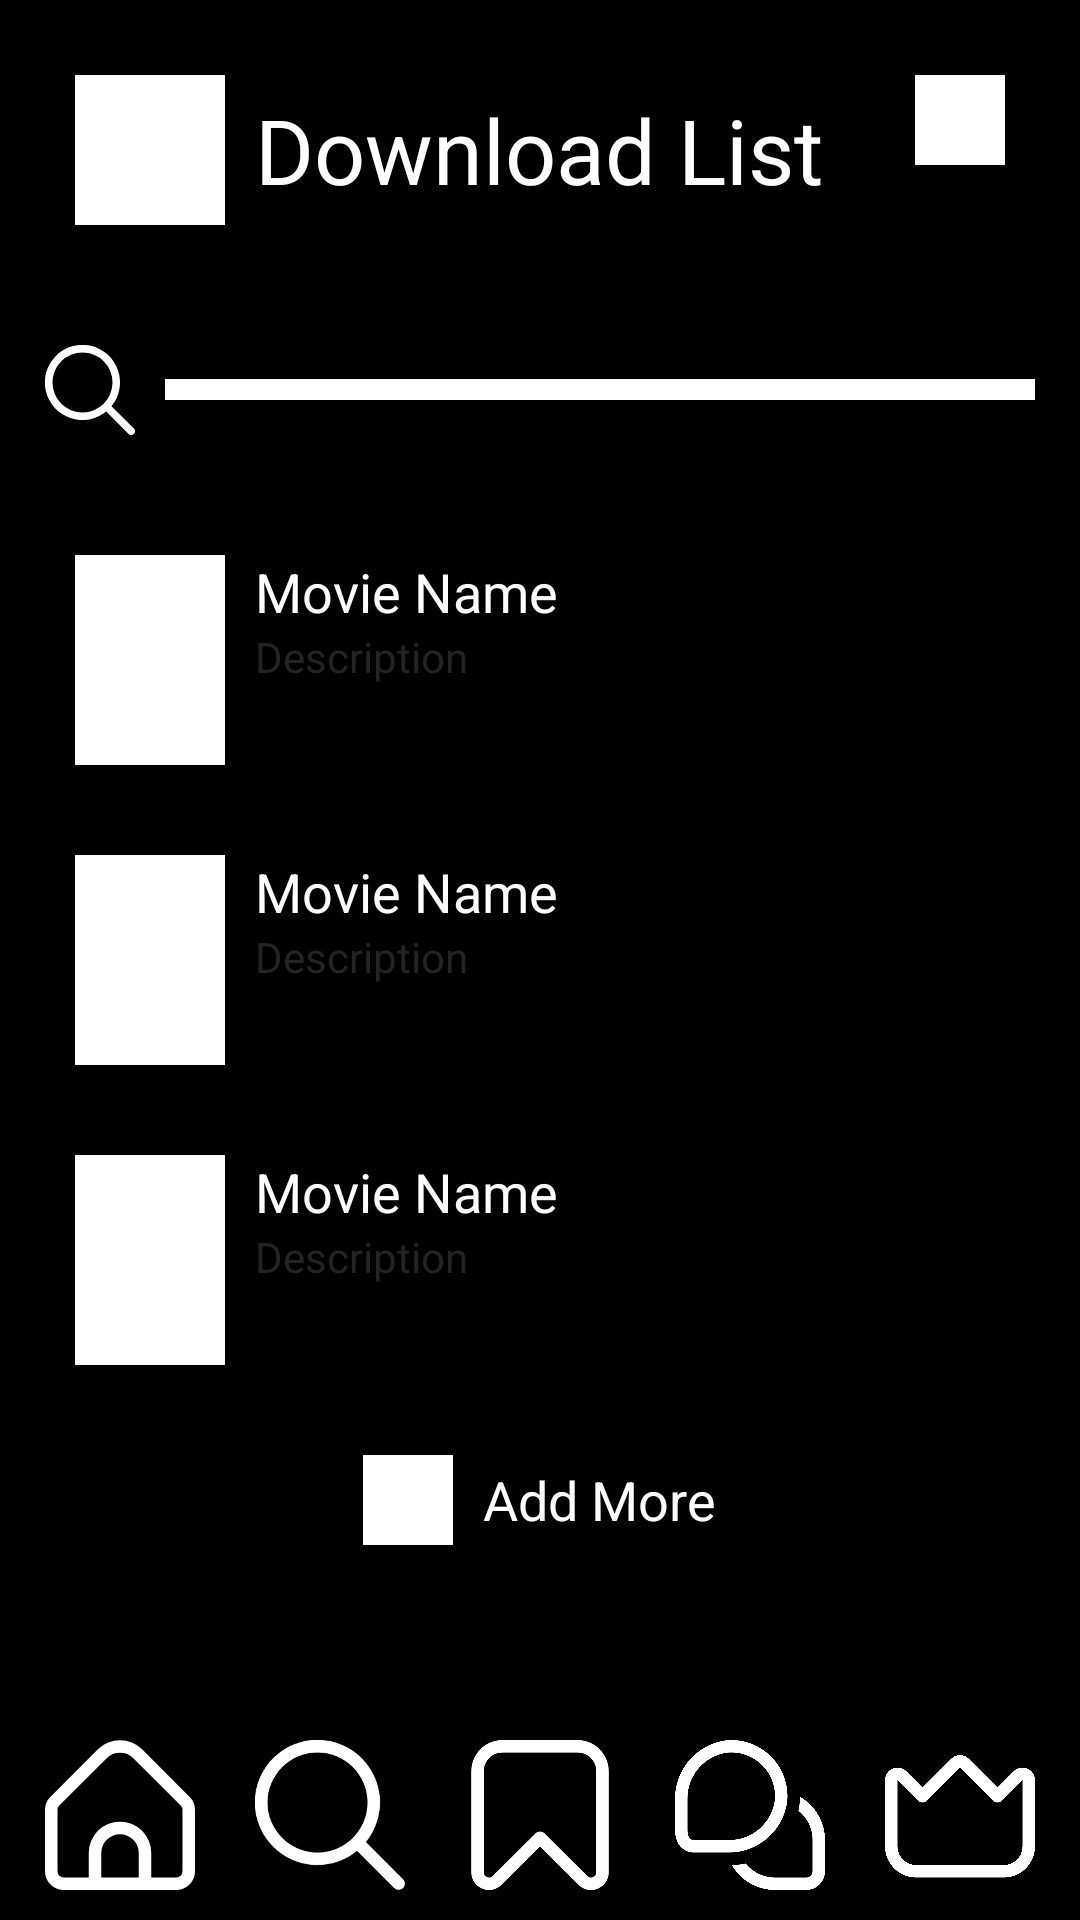

Icons on this 1080w x 1920h Android screen, each with its box as (x1, y1, x2, y2):
Chat: (675, 1740, 825, 1890)
Home: (45, 1740, 195, 1890)
Premium: (885, 1755, 1035, 1878)
Save List: (471, 1740, 609, 1890)
